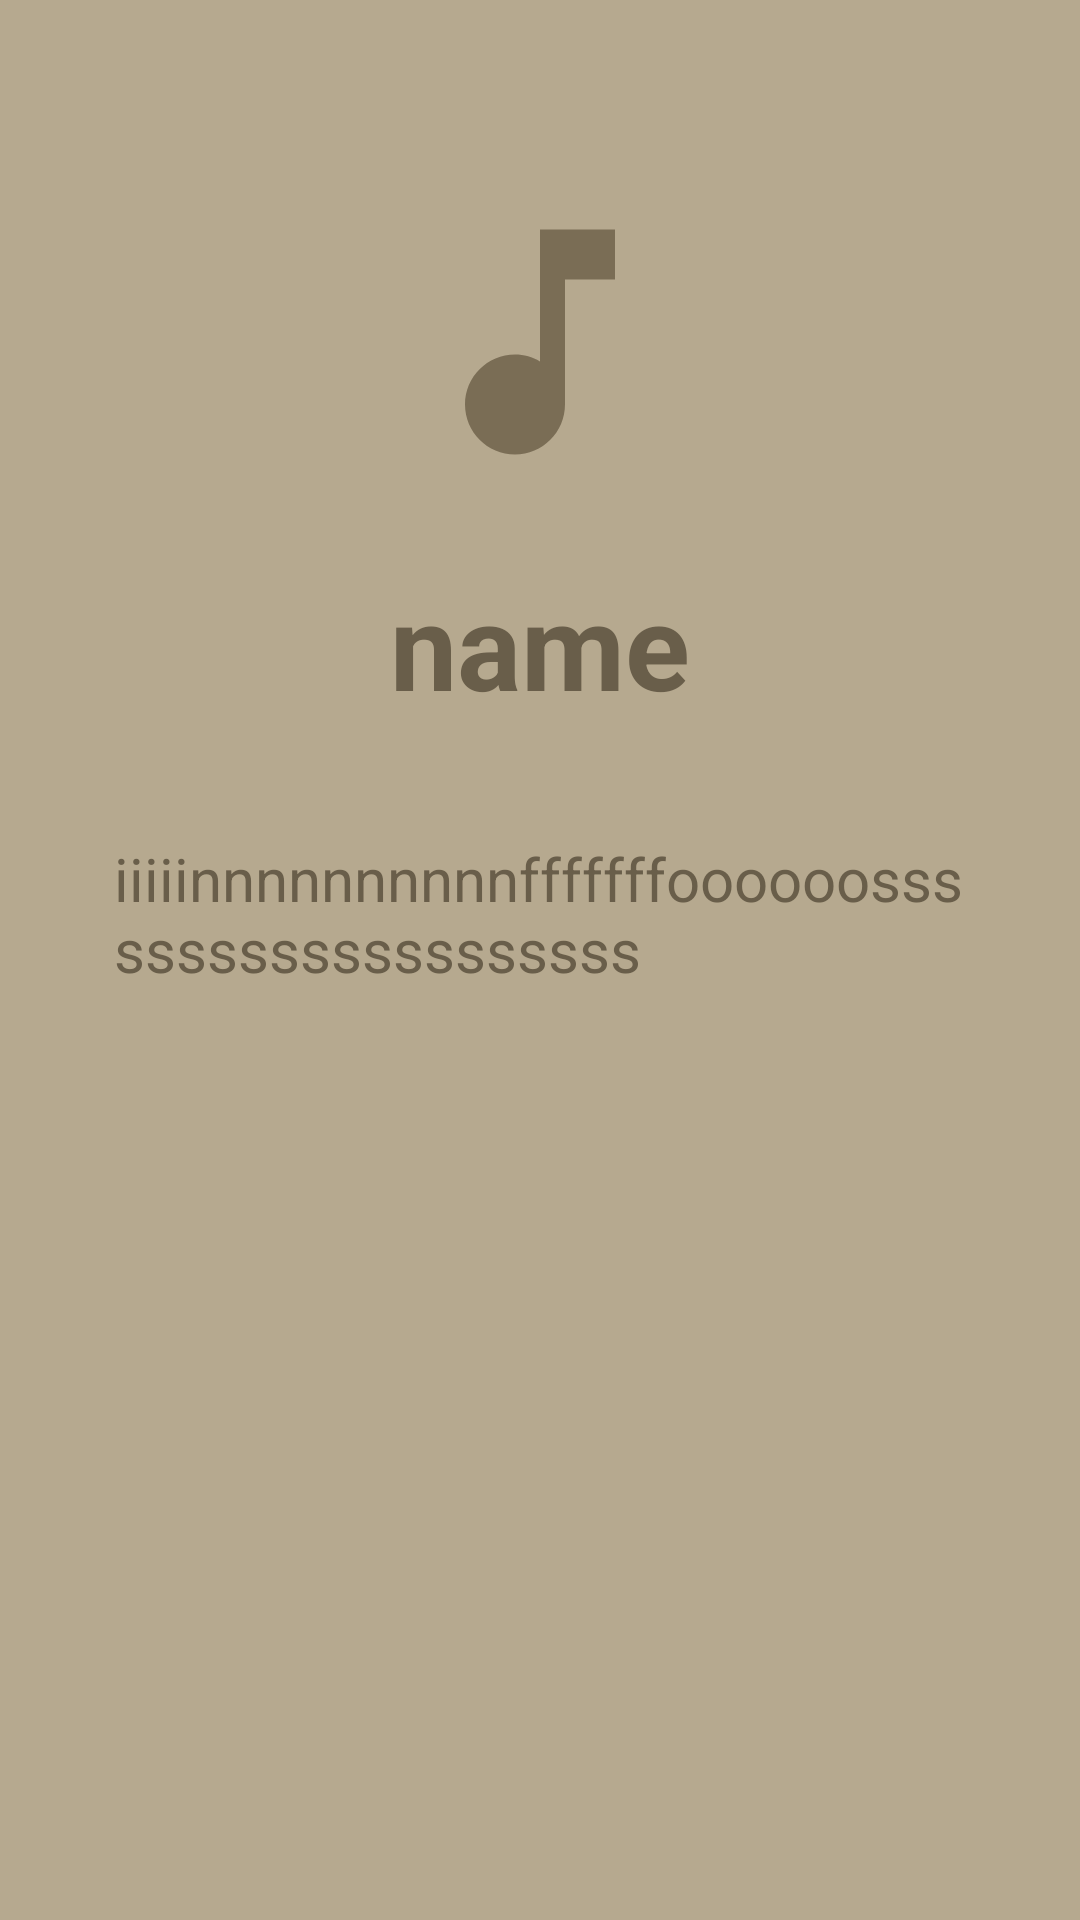

Icon click points for this 1080w x 1920h phone screenshot, format [x,y]:
music note: [540,342]
